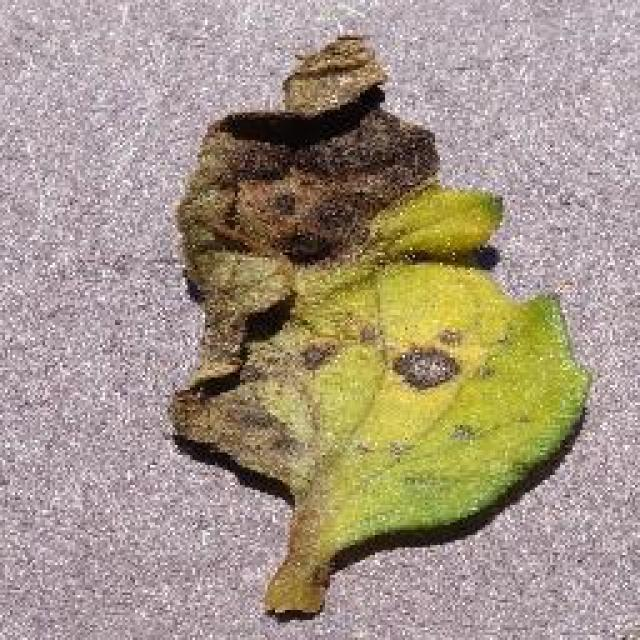Tomato Septoria spot leaf: (166, 29, 594, 548)
